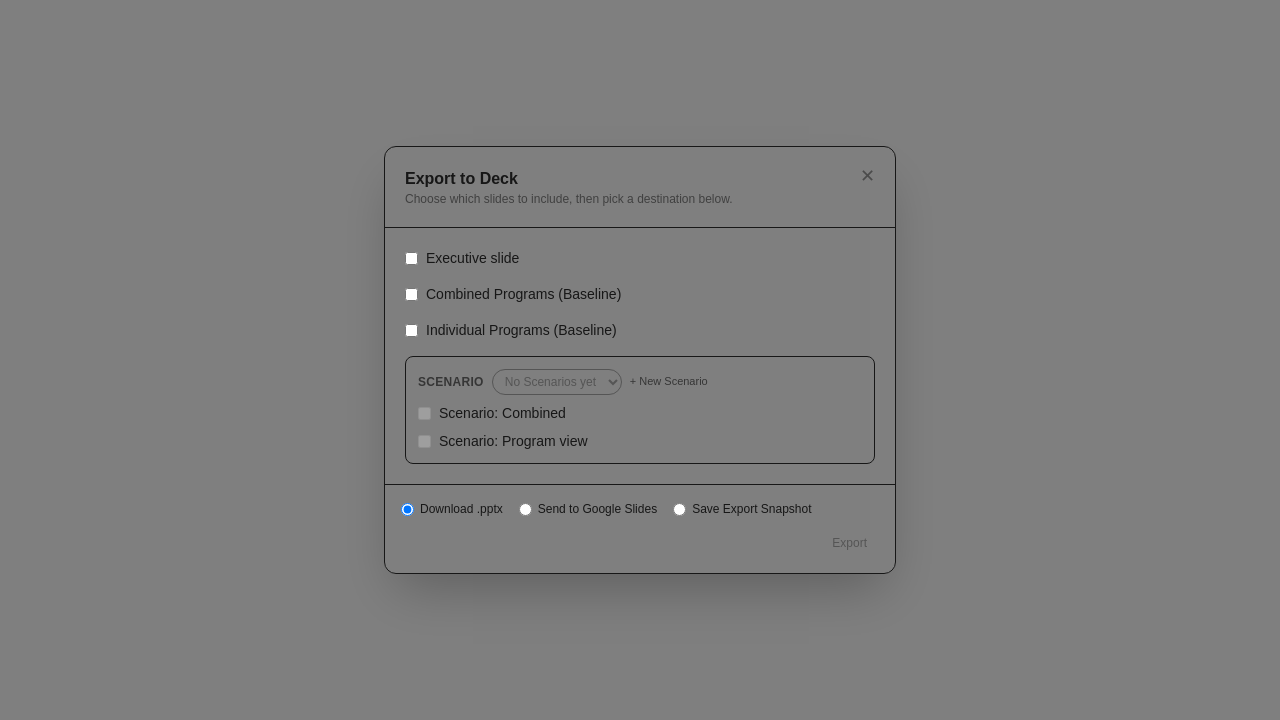
it: ExportDialog (t29/t30) › enables Export once a checkbox is checked
Click the checkbox labelled "Executive slide" at (412, 258), box [405, 252, 418, 264]
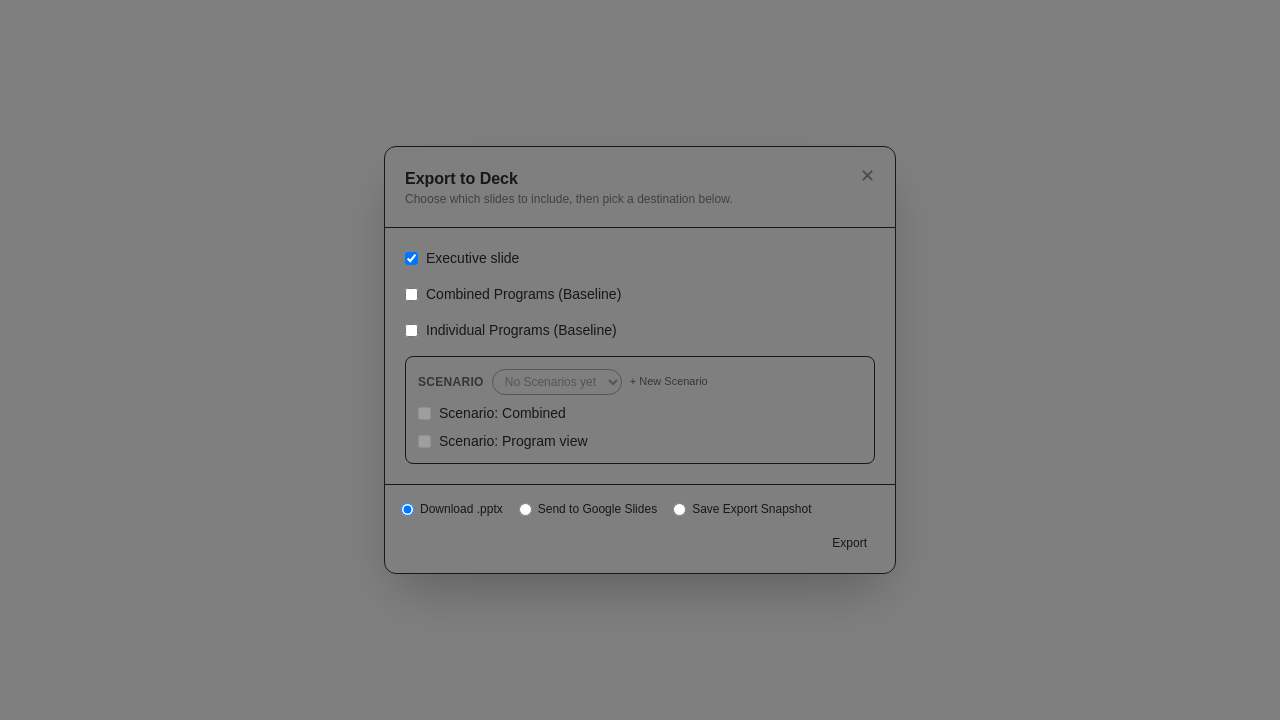
Now the button "Export" is enabled, box [820, 529, 879, 557]
